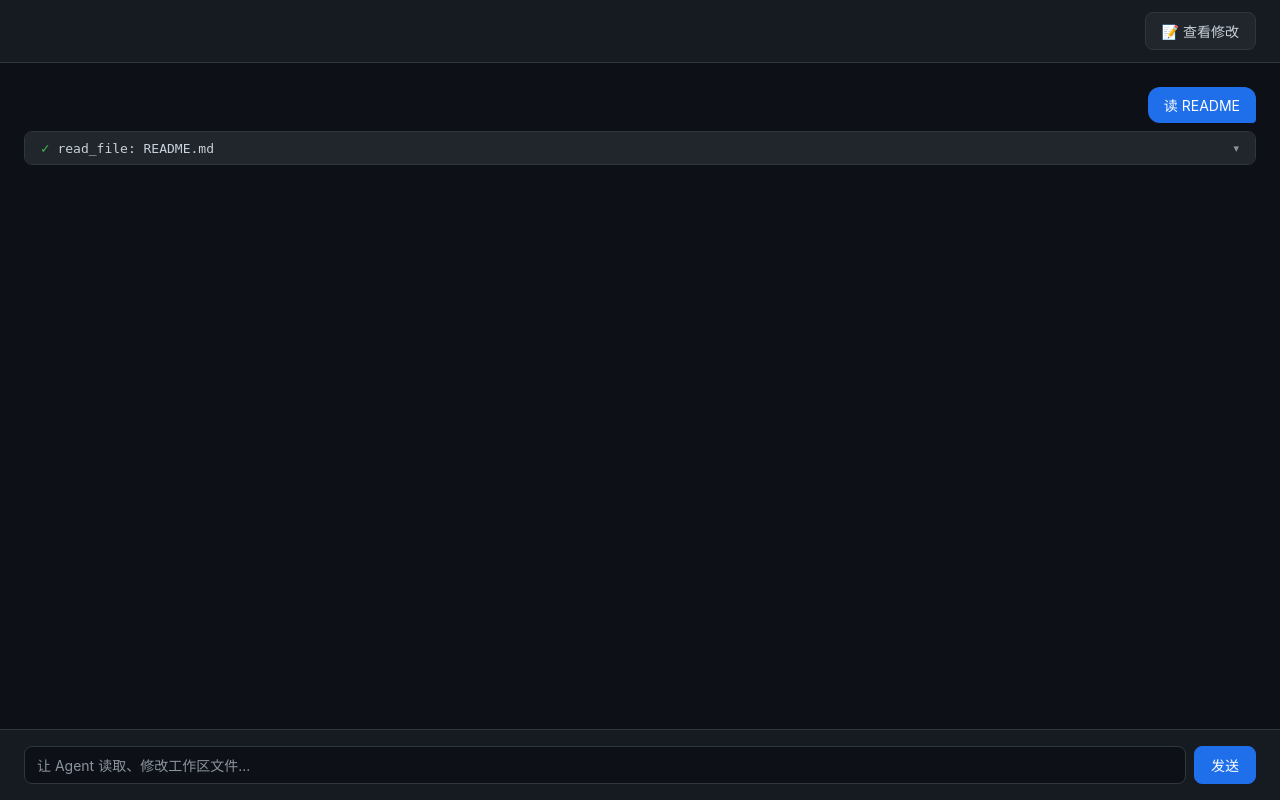
Test case: Conversation › 只读工具卡片展开显示完整结果
Expected: the element with test id "tool-card" does not show "# Sophoni"
Click the button with class "tool-header" at point(136, 148), box [25,132,1255,164]
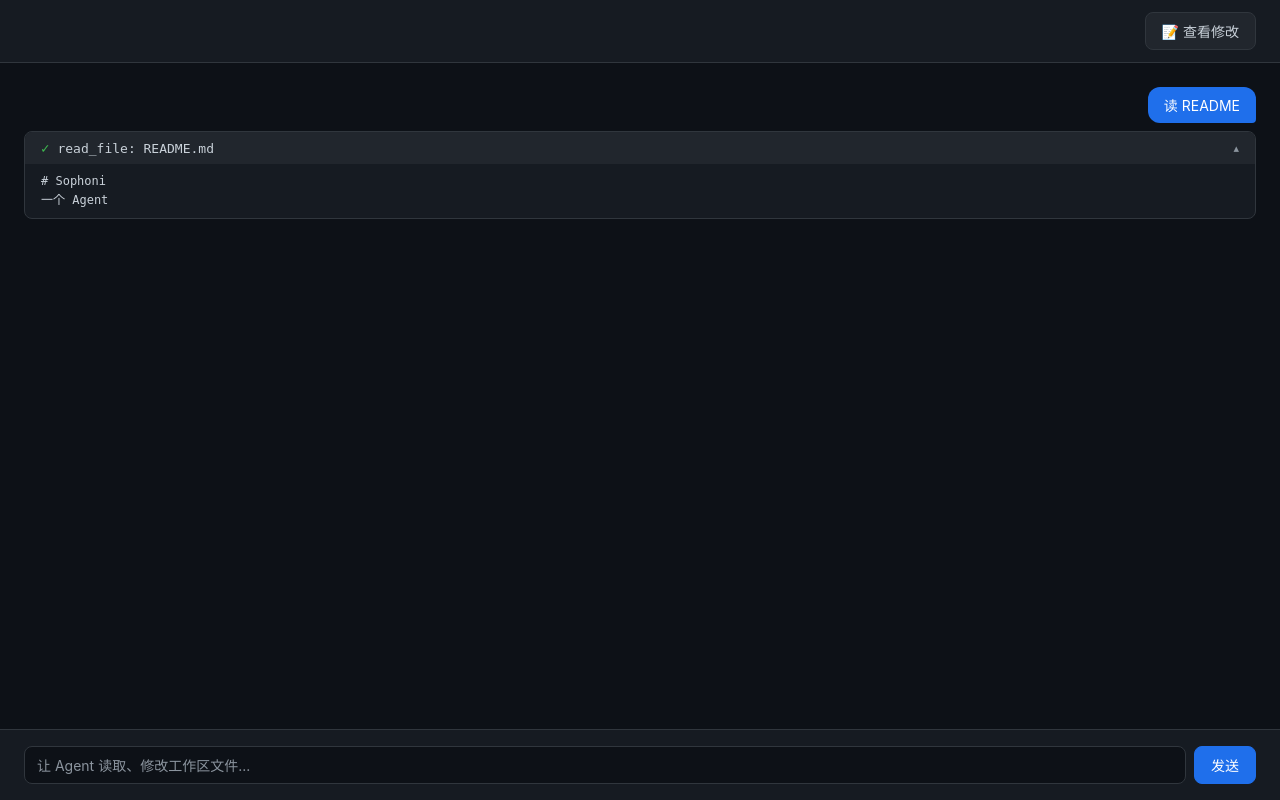
Now the element with test id "tool-card" shows "# Sophoni", box [41,174,108,207]
Now the element with test id "tool-card" shows "一个 Agent", box [41,174,108,207]
